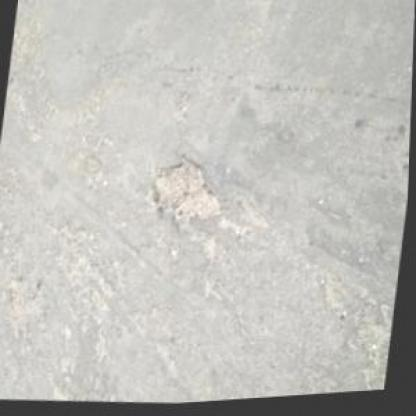pothole: (147, 156, 229, 242), (3, 274, 55, 332)
